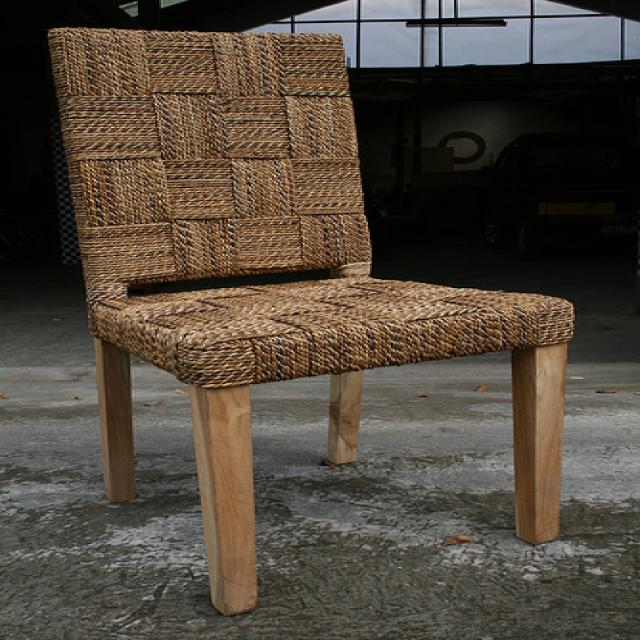chair: (44, 25, 575, 616)
